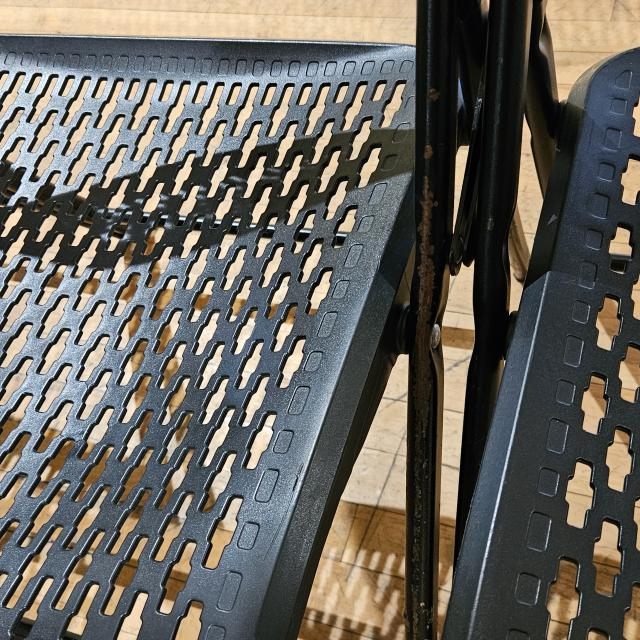Filiform Corrosion: (405, 1, 460, 640)
